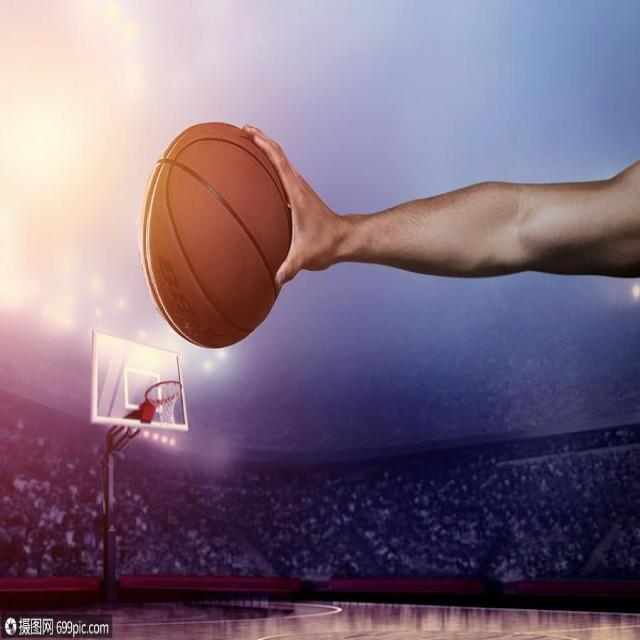rim: (137, 122, 296, 348)
